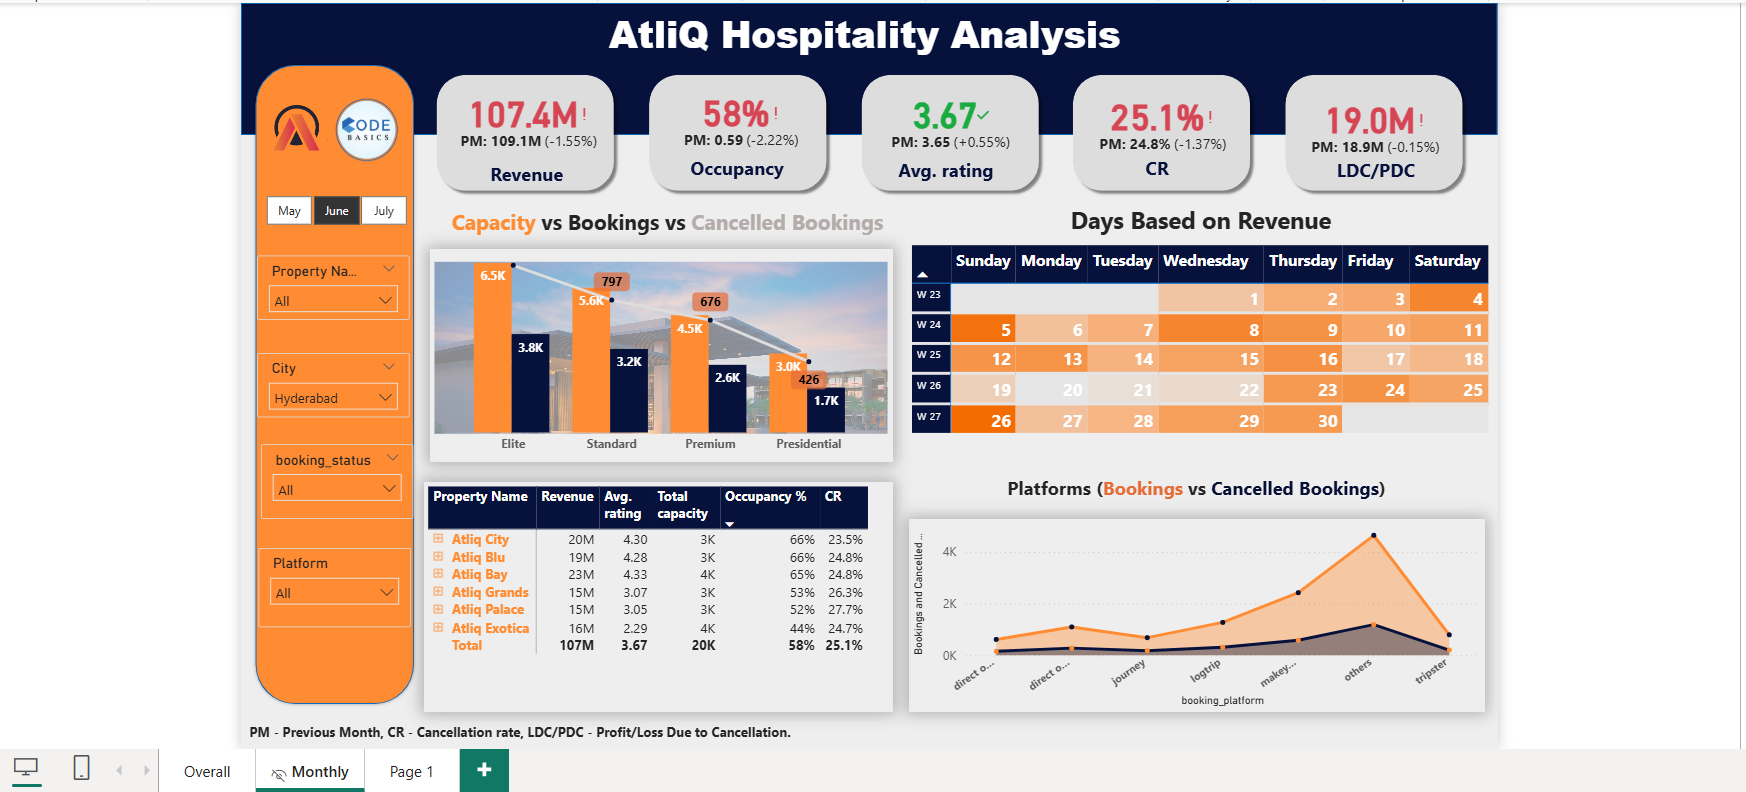

The dashboard page shown, as its layout file describes it:
{"tool":"powerbi","page":{"name":"Monthly","canvas":[1280,760],"ordinal":1},"visuals":[{"type":"group","id":"g1","title":"visuals","box":[0,0,1280,760.7],"z":0},{"type":"textbox","box":[0,727.8,1063.8,32.8],"z":0,"group":"g1"},{"type":"shape","box":[0,0,1280,134.4],"z":1000,"group":"g1"},{"type":"shape","box":[840.8,65.9,194.5,131.9],"z":2000,"group":"g1"},{"type":"shape","box":[624.8,65.9,194.5,131.9],"z":3000,"group":"g1"},{"type":"textbox","box":[679.4,476.2,586.9,50],"z":3000},{"type":"shape","box":[192.9,65.9,194.5,131.9],"z":4000,"group":"g1"},{"type":"textbox","box":[198.7,203.2,471.7,47],"z":4000},{"type":"shape","box":[408.9,65.9,194.5,131.9],"z":5000,"group":"g1"},{"type":"shape","box":[11.5,59.3,168.2,657.8],"z":6000,"group":"g1"},{"type":"shape","box":[1056.7,65.9,194.5,131.9],"z":7000,"group":"g1"},{"type":"pivotTable","fields":{"Rows":["dim_date.week no"],"Values":["Sum(dim_date.DAY)"],"Columns":["Week_day.Weekday"]},"box":[679.2,242.3,598.4,245.6],"z":8000,"group":"g1"},{"type":"slicer","fields":{"Values":["dim_date.mmm yy.Variation.Date Hierarchy.Month"]},"box":[0,189.6,192.9,42.9],"z":9000,"group":"g1"},{"type":"kpi","title":"Revenue","fields":{"Indicator":["resource_measures.revenue"],"TrendLine":["dim_date.date.Variation.Date Hierarchy.Month"],"Goal":["resource_measures.revenue LM"]},"box":[204.4,92.3,176.4,62.6],"z":10000,"group":"g1"},{"type":"kpi","fields":{"Indicator":["resource_measures.Occupancy %"],"TrendLine":["dim_date.date.Variation.Date Hierarchy.Month"],"Goal":["resource_measures.Occupancy % LM"]},"box":[423.7,89,171.5,65.9],"z":11000,"group":"g1"},{"type":"kpi","fields":{"Goal":["resource_measures.cancellation rate LM"],"TrendLine":["dim_date.date.Variation.Date Hierarchy.Month"],"Indicator":["resource_measures.CR"]},"box":[852.3,90.7,174.8,72.5],"z":12000,"group":"g1"},{"type":"kpi","fields":{"Indicator":["resource_measures.LDC"],"Goal":["resource_measures.LDC LM"],"TrendLine":["dim_date.date.Variation.Date Hierarchy.Month"]},"box":[1068.3,89,174.8,80.8],"z":13000,"group":"g1"},{"type":"kpi","title":"Avg. rating ","fields":{"Indicator":["resource_measures.Avg. rating"],"TrendLine":["dim_date.date.Variation.Date Hierarchy.Month"],"Goal":["resource_measures.avg.rating LM"]},"box":[631.4,92.3,183,65.9],"z":14000,"group":"g1"},{"type":"textbox","box":[1083.1,153.3,145.1,46.2],"z":15000,"group":"g1"},{"type":"textbox","box":[860.6,150,145.1,44.5],"z":16000,"group":"g1"},{"type":"textbox","box":[646.2,153.3,145.1,44.5],"z":17000,"group":"g1"},{"type":"textbox","box":[433.6,150,145.1,44.5],"z":18000,"group":"g1"},{"type":"textbox","box":[217.6,156.6,146.7,37.9],"z":19000,"group":"g1"},{"type":"textbox","box":[1.9,0,1278.1,65.6],"z":20000,"group":"g1"},{"type":"slicer","fields":{"Values":["dim_hotels.property_name"]},"box":[16.5,257.2,155,65.9],"z":22000,"group":"g1"},{"type":"slicer","fields":{"Values":["dim_hotels.city"]},"box":[16.5,356.1,155,65.9],"z":23000,"group":"g1"},{"type":"slicer","fields":{"Values":["fact_bookings.booking_status"]},"box":[19.8,450.1,155,75.8],"z":24000,"group":"g1"},{"type":"slicer","fields":{"Values":["fact_bookings.booking_platform"]},"box":[18.1,555.6,155,80.8],"z":25000,"group":"g1"},{"type":"image","title":"atliq","box":[15.1,90.4,77.6,73.8],"z":26000,"group":"g1"},{"type":"image","title":"codebasics","box":[85.2,90.4,85.2,77.6],"z":27000,"group":"g1"},{"type":"lineClusteredColumnComboChart","title":"Capacity vs Bookings vs Cancelled Bookings","fields":{"Category":["dim_rooms.room_class"],"Y":["resource_measures.Total capacity","resource_measures.Total sucessful bookings"],"Y2":["resource_measures.Total cancelled bookings"]},"box":[192.6,250.2,471.7,216.9],"z":28000,"group":"g1"},{"type":"areaChart","fields":{"Category":["fact_bookings.booking_platform"],"Y":["resource_measures.Total bookings","resource_measures.Total cancelled bookings"]},"box":[679.4,526.3,586.9,195.6],"z":29000,"group":"g1"},{"type":"pivotTable","fields":{"Rows":["dim_hotels.property_name","dim_hotels.city"],"Values":["resource_measures.revenue","resource_measures.Avg. rating","resource_measures.Total capacity","resource_measures.Occupancy %","resource_measures.CR"]},"box":[186.3,488,478.1,234.1],"z":30000,"group":"g1"},{"type":"textbox","box":[679.2,199.5,598.4,49.5],"z":31000,"group":"g1"}]}

Visuals, with their boxes on the page's 1280x760 design canvas (x1, y1, x2, y2). These are canvas units, not pixel positions in the 1746x792 screenshot, which may show the page scaled, cropped or inside an application window:
"visuals" group: region(0, 0, 1280, 761)
textbox: region(0, 728, 1064, 761)
shape: region(0, 0, 1280, 134)
shape: region(841, 66, 1035, 198)
shape: region(625, 66, 819, 198)
textbox: region(679, 476, 1266, 526)
shape: region(193, 66, 387, 198)
textbox: region(199, 203, 670, 250)
shape: region(409, 66, 603, 198)
shape: region(12, 59, 180, 717)
shape: region(1057, 66, 1251, 198)
pivotTable - dim_date.week no x Sum(dim_date.DAY): region(679, 242, 1278, 488)
slicer - dim_date.mmm yy.Variation.Date Hierarchy.Month: region(0, 190, 193, 232)
"Revenue" kpi: region(204, 92, 381, 155)
kpi - resource_measures.Occupancy % x dim_date.date.Variation.Date Hierarchy.Month: region(424, 89, 595, 155)
kpi - resource_measures.cancellation rate LM x dim_date.date.Variation.Date Hierarchy.Month: region(852, 91, 1027, 163)
kpi - resource_measures.LDC x resource_measures.LDC LM: region(1068, 89, 1243, 170)
"Avg. rating " kpi: region(631, 92, 814, 158)
textbox: region(1083, 153, 1228, 200)
textbox: region(861, 150, 1006, 194)
textbox: region(646, 153, 791, 198)
textbox: region(434, 150, 579, 194)
textbox: region(218, 157, 364, 194)
textbox: region(2, 0, 1280, 66)
slicer - dim_hotels.property_name: region(16, 257, 172, 323)
slicer - dim_hotels.city: region(16, 356, 172, 422)
slicer - fact_bookings.booking_status: region(20, 450, 175, 526)
slicer - fact_bookings.booking_platform: region(18, 556, 173, 636)
"atliq" image: region(15, 90, 93, 164)
"codebasics" image: region(85, 90, 170, 168)
"Capacity vs Bookings vs Cancelled Bookings" lineClusteredColumnComboChart: region(193, 250, 664, 467)
areaChart - fact_bookings.booking_platform x resource_measures.Total bookings: region(679, 526, 1266, 722)
pivotTable - dim_hotels.property_name x dim_hotels.city: region(186, 488, 664, 722)
textbox: region(679, 200, 1278, 249)
